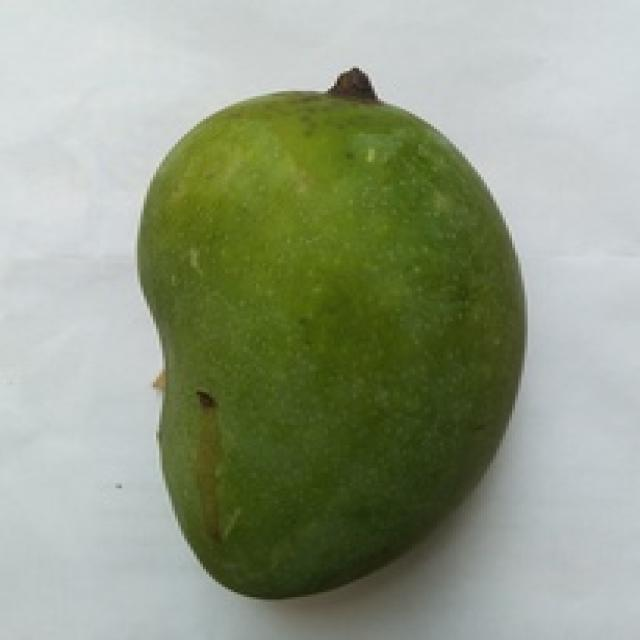Mango: (137, 89, 521, 594)
